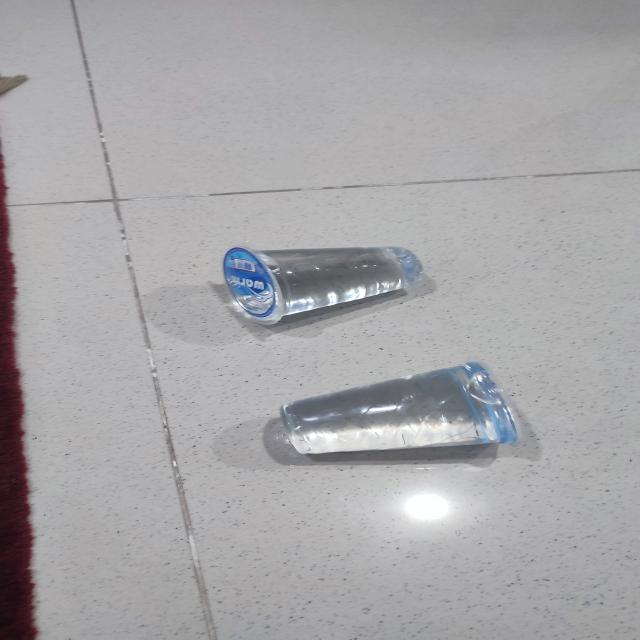air gelas: (269, 357, 530, 460), (221, 238, 442, 321)
